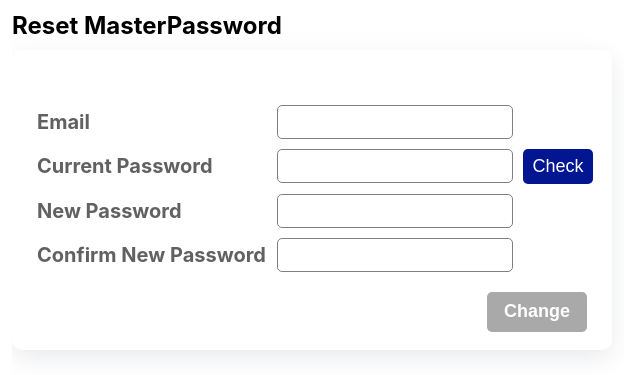
Test: <MasterPassword /> › Success message should show when currentPassword is confirmed
This screenshot has width=624, height=375.
In the field in the row of "Email": (395, 122) [277,105,513,139], type "test@test.com"
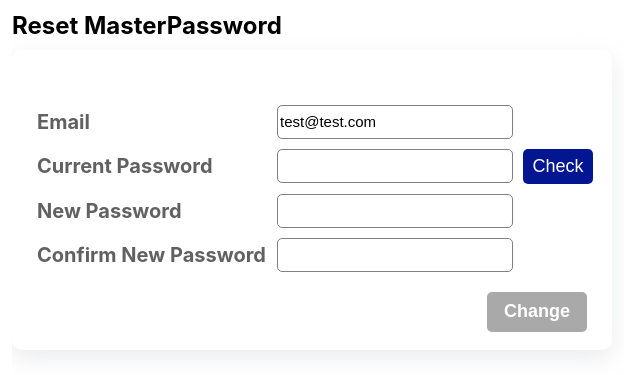
In the field next to "Current Password": (395, 166) [277,149,513,183], type "testPassword1"
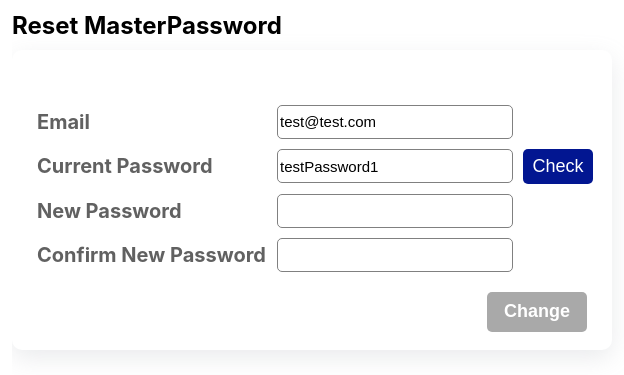
Click the button "Check": (558, 166) [523,149,593,184]
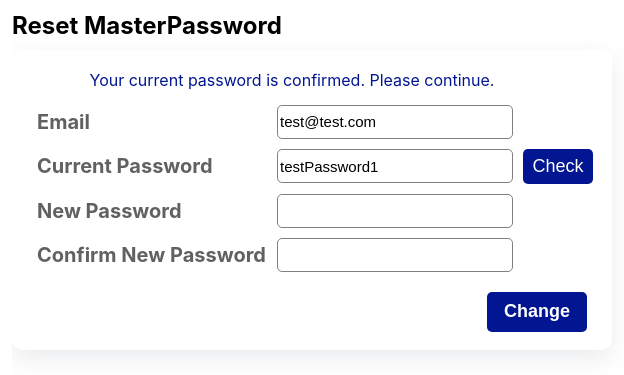
Expected: the text "Your current password is confirmed. Please continue." is shown, [90,70,494,90]
